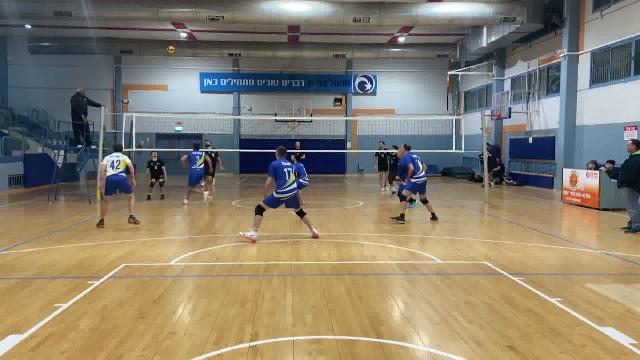ball: (165, 42, 178, 57)
